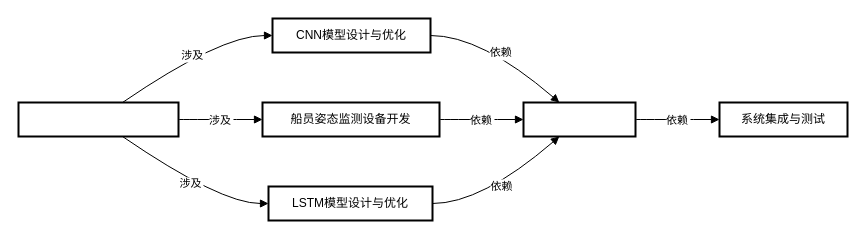
Image size: 865x238. Some labels were removed from this diagram. The shapes that lost their labels are listed below. From the top down, each one's centre as x and y in pixels, then its label:
At point 98,119: "需求分析与系统设计".
At point 579,119: "多源数据融合".
